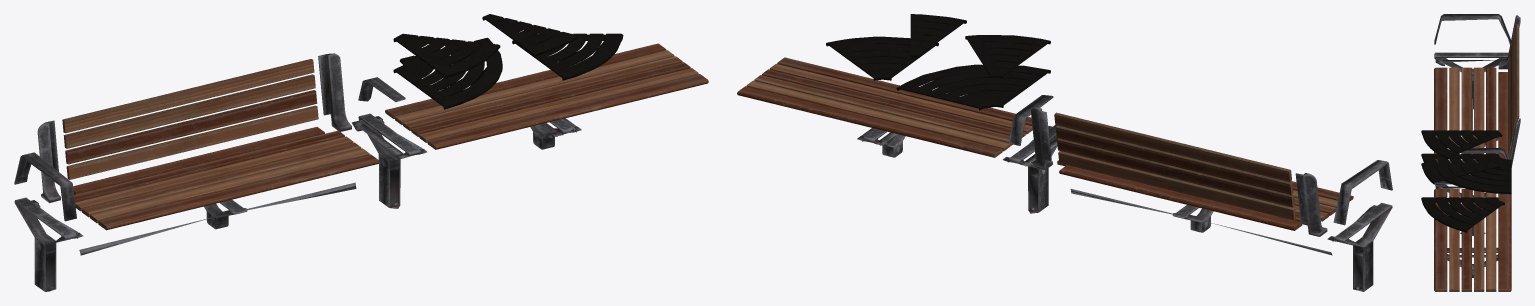
The model's file is modular_street_seating_opt.gltf.
3 renders of one model, left to right at view 1: azimuth 30°, elevation 25°; view 2: azimuth 150°, elevation 25°; view 3: azimuth 270°, elevation 25°, orthographic. The views are drawn at different scales.
Visible parts, largest first — view 1: seat_back, seat, seat_bench, connector_90, legs_double, connector_45, connector_60, legs_single, connector_30, back_support_l, arm_rest_01, back_support_r (+4 smaller); view 2: seat_bench, seat_back, connector_90, seat, connector_60, connector_45, legs_single, legs_double, connector_30, back_support_r, arm_rest_01, back_support_l (+4 smaller); view 3: seat_bench, seat, connector_90, connector_60, connector_45, seat_back, connector_30, legs_single, arm_rest_01, back_support_r, arm_rest_02, back_support_l (+2 smaller).
Boxes of the visible parts, x1,y1,x2,y2 form: seat_back: (62,59,318,179); seat: (73,127,379,230); seat_bench: (385,43,708,149); connector_90: (393,37,502,109); legs_double: (351,113,427,208); connector_45: (393,33,500,78); connector_60: (512,33,623,80); legs_single: (14,197,83,291); connector_30: (482,14,577,56); back_support_l: (318,53,351,131); arm_rest_01: (14,152,76,221); back_support_r: (37,120,60,203); seat_bench: (737,57,1032,157); seat_back: (1054,112,1295,220); connector_90: (896,64,1050,110); seat: (1057,160,1353,230); connector_60: (826,36,938,80); connector_45: (965,35,1050,78); legs_single: (1327,203,1392,291); legs_double: (1003,125,1058,213); connector_30: (910,14,966,57); back_support_r: (1295,173,1327,236); arm_rest_01: (1333,160,1392,225); back_support_l: (1031,107,1052,169); seat_bench: (1434,189,1511,291); seat: (1434,67,1509,162); connector_90: (1421,153,1511,194); connector_60: (1421,197,1504,232); connector_45: (1421,130,1502,159); seat_back: (1508,24,1519,157); connector_30: (1421,163,1500,184); legs_single: (1434,52,1508,109); arm_rest_01: (1434,14,1510,44); back_support_r: (1498,15,1520,69); arm_rest_02: (1461,148,1508,159); back_support_l: (1509,118,1520,167).
Size of the model in its own units: 4.34 by 0.95 by 0.7704.
4 materials, 4 textured.
